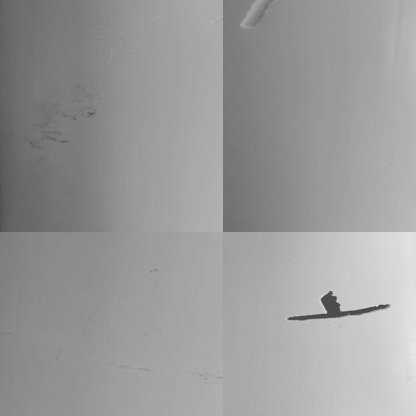fengxi: (289, 302, 391, 322)
kongdong: (317, 288, 341, 311)
sunshang: (240, 1, 273, 31)
